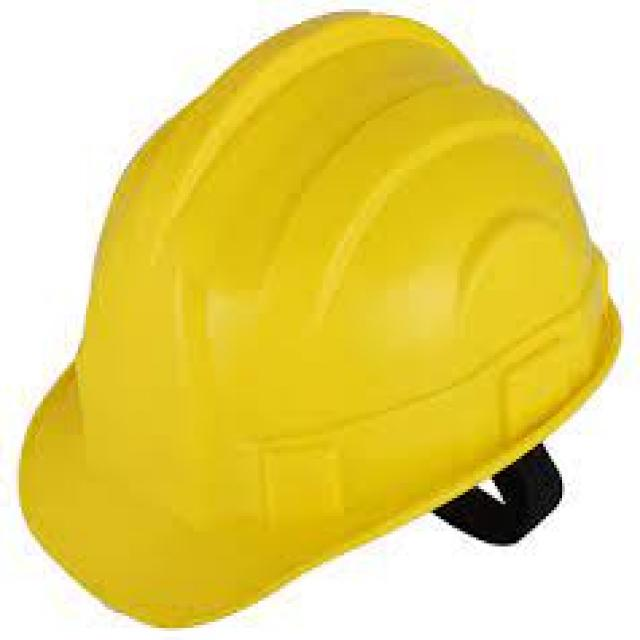Safety-Helmet: (30, 3, 629, 601)
